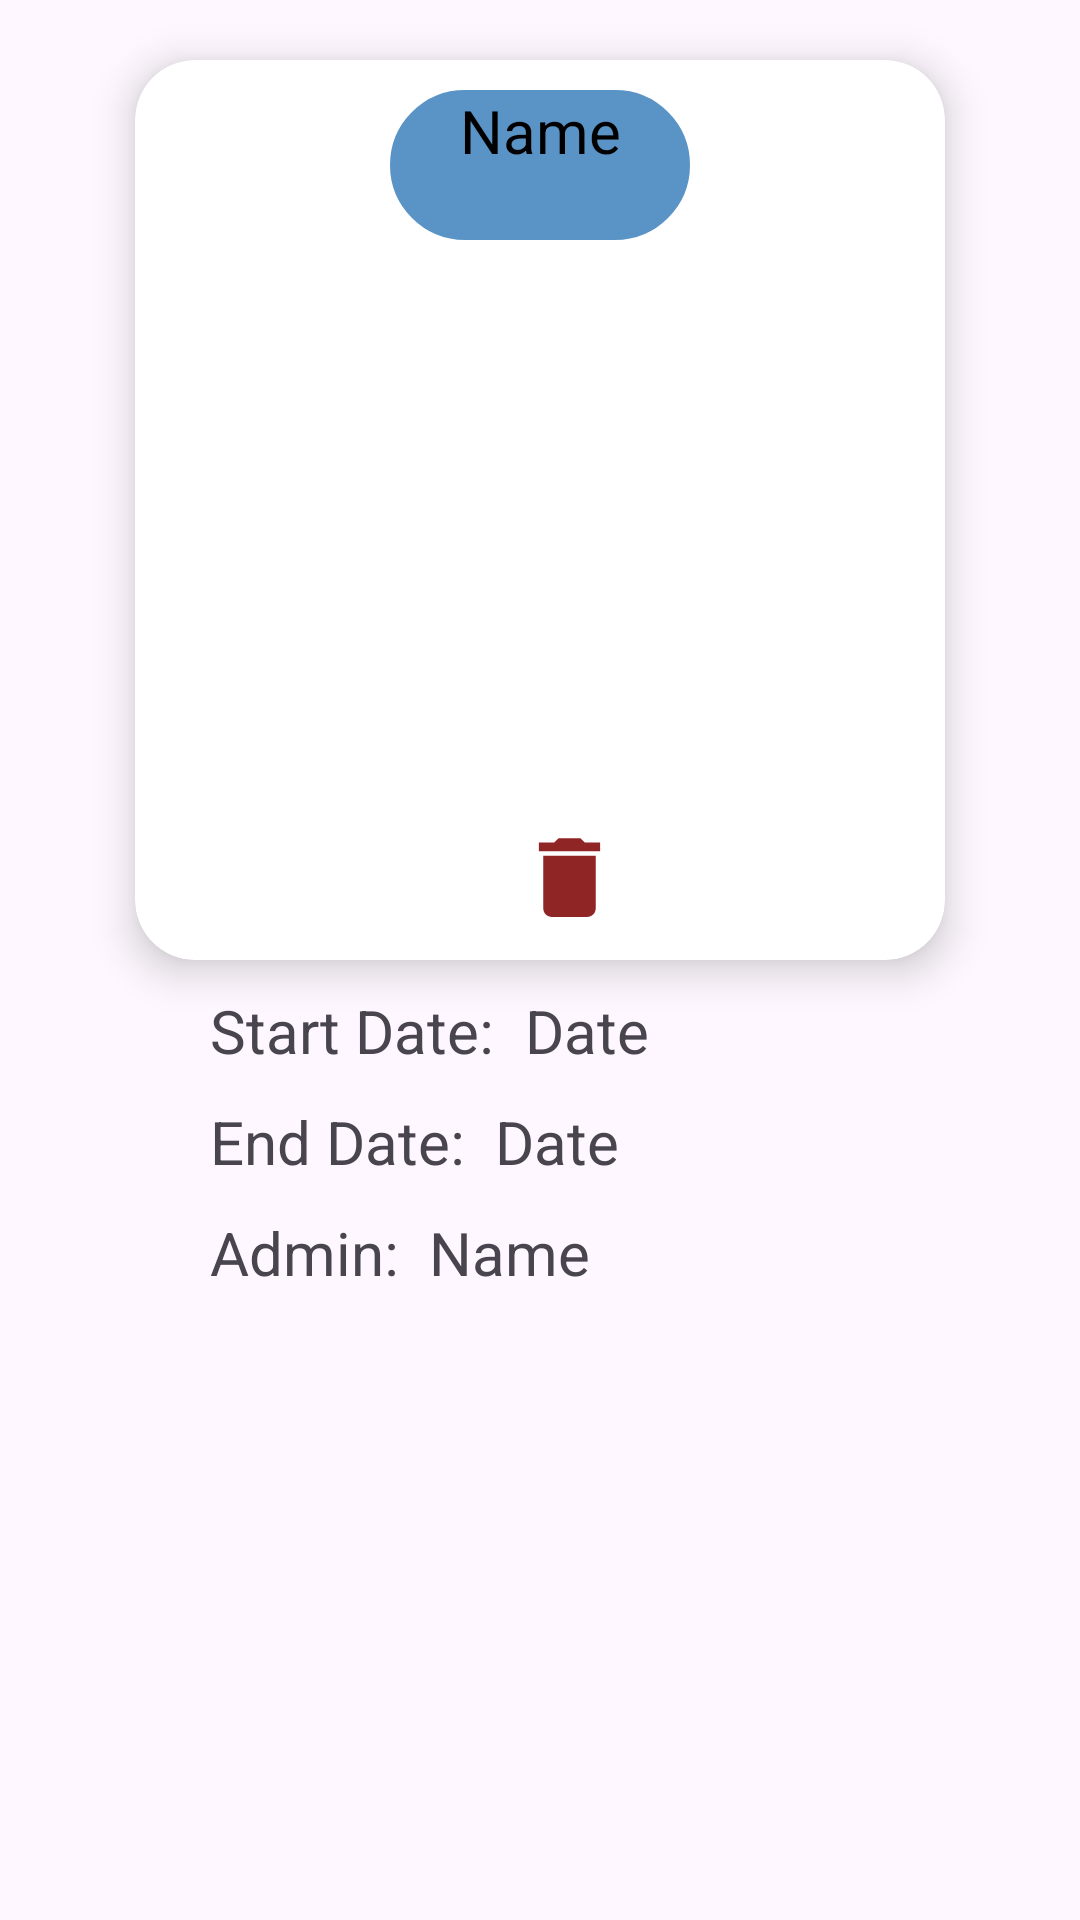

Icon bounding boxes for this 1080px×1920px phone screenshot, format (x1, y1, x2, y2):
delete: (538, 838, 601, 917)
